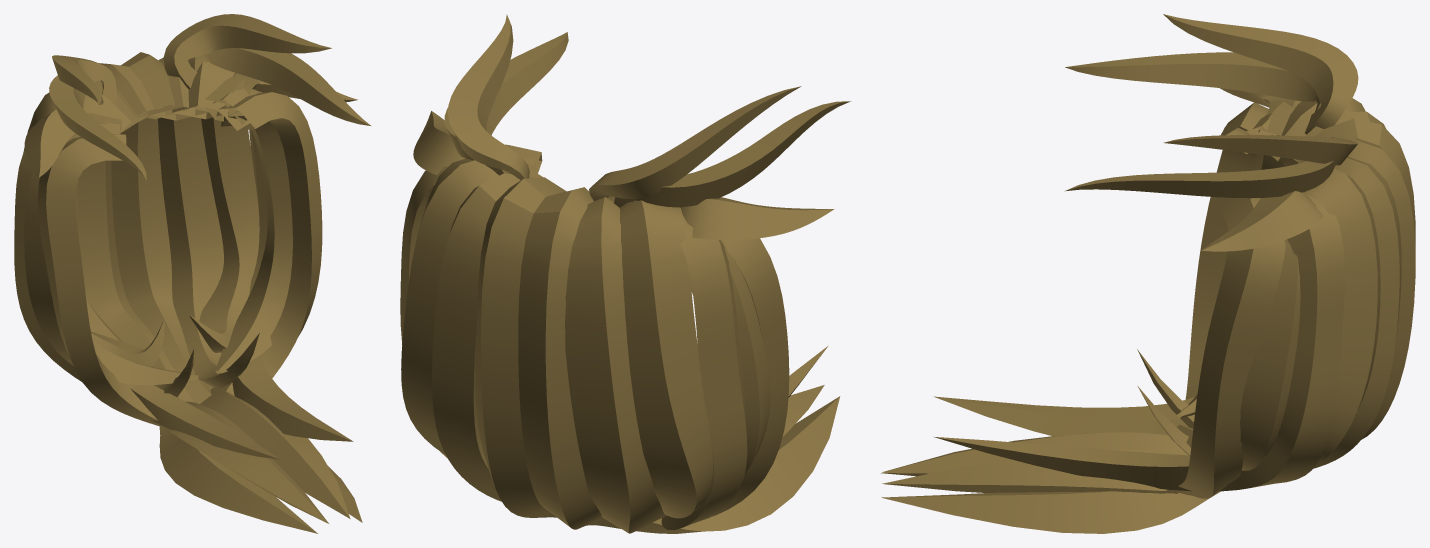
File: Body_001.fbx
3 views of the same model, side by side, from view 1: azimuth 30°, elevation 25°; view 2: azimuth 150°, elevation 25°; view 3: azimuth 270°, elevation 25° (orthographic). The views are drawn at different scales.
Parts seen in each view (by area): view 1: Body.001; view 2: Body.001; view 3: Body.001.
Boxes of the visible parts, x1=… form: Body.001: x1=14, y1=14, x2=370, y2=533; Body.001: x1=400, y1=14, x2=851, y2=533; Body.001: x1=881, y1=14, x2=1415, y2=533.
Bounding box in the file's own units: 107 × 122 × 137.
